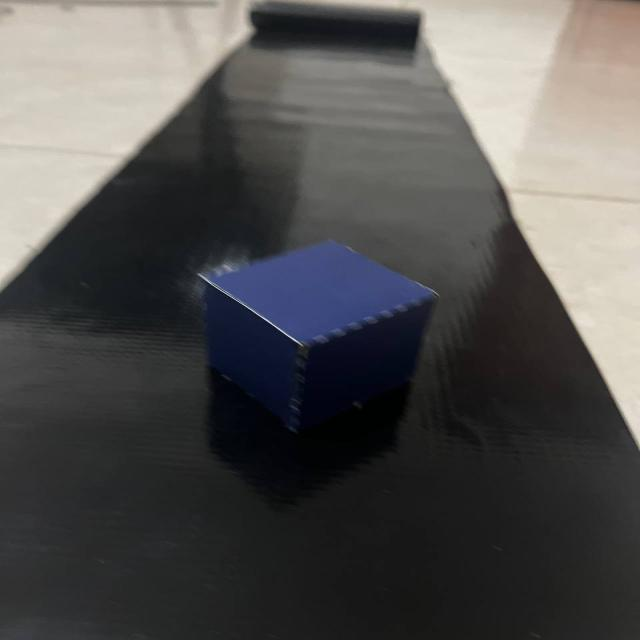Azul: (166, 226, 472, 462)
